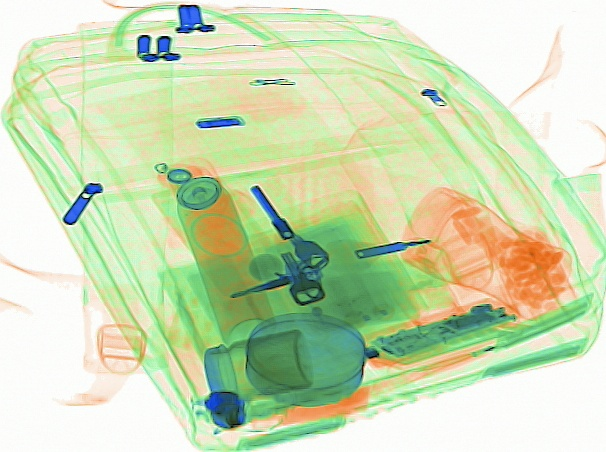pressure: (168, 151, 280, 348)
